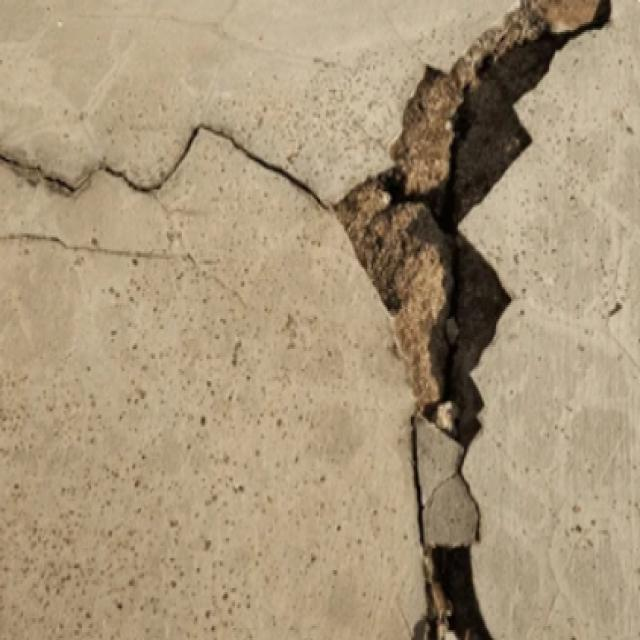branched cracks: (0, 0, 609, 639)
